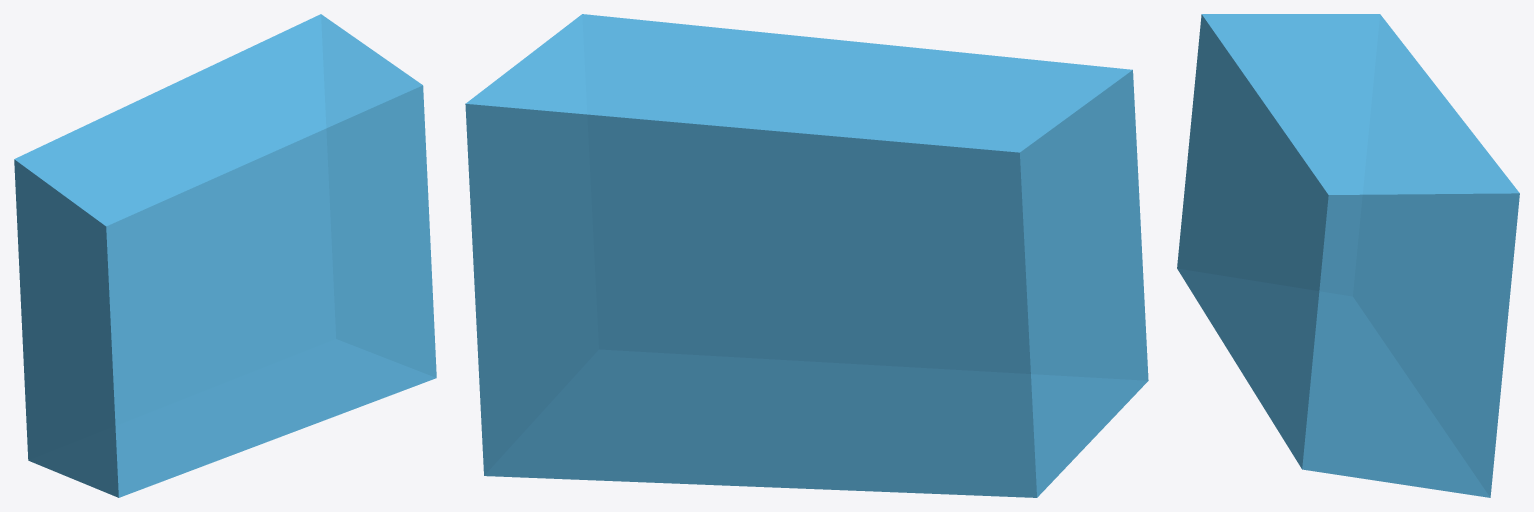
File: Event_421556567_HErechit_57.fbx
3 views of the same model, side by side, from view 1: azimuth 30°, elevation 25°; view 2: azimuth 150°, elevation 25°; view 3: azimuth 270°, elevation 25° (orthographic). The views are drawn at different scales.
Parts seen in each view (by area): view 1: Model; view 2: Model; view 3: Model.
Boxes of the visible parts, <box> form: Model: <box>14,14,436,497</box>; Model: <box>465,14,1148,497</box>; Model: <box>1177,14,1519,497</box>.
Size of the model in its own units: 0.8707 by 0.6828 by 0.6969.
